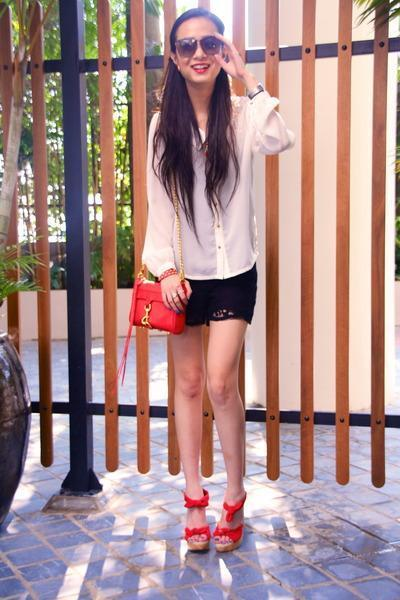bag: (132, 252, 184, 334)
shirt: (142, 88, 273, 279)
shoe: (180, 492, 246, 548)
skirt: (180, 264, 256, 323)
sunglass: (180, 36, 223, 57)
